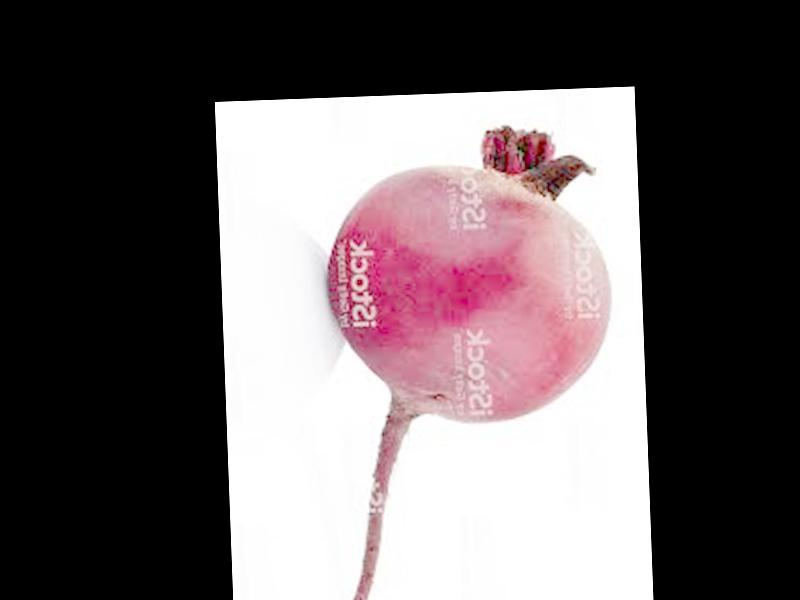Beet: (322, 123, 621, 600)
